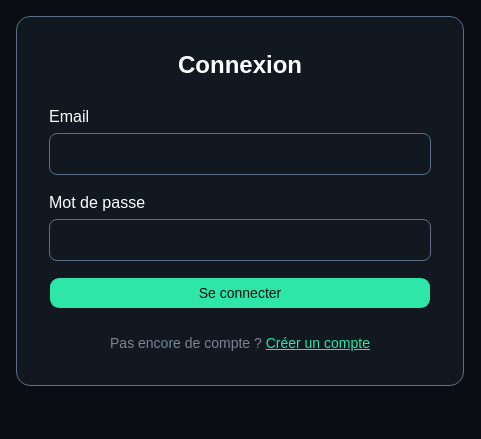
Écran de connexion (SH-20) › refuse un mot de passe trop court sans appeler le backend
In the field labelled "Email": (240, 154) [49,133,431,175], type "pilote@skillhunt.io"
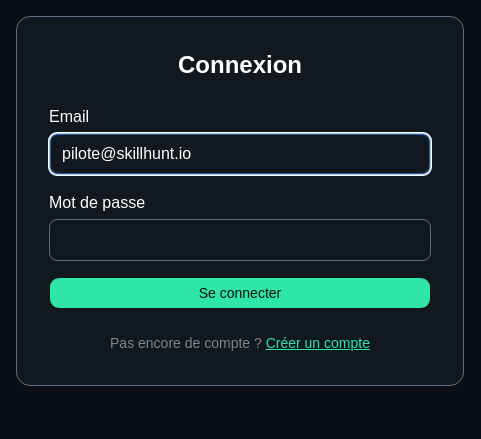
In the password field labelled "Mot de passe": (240, 240) [49,219,431,261], type "court"
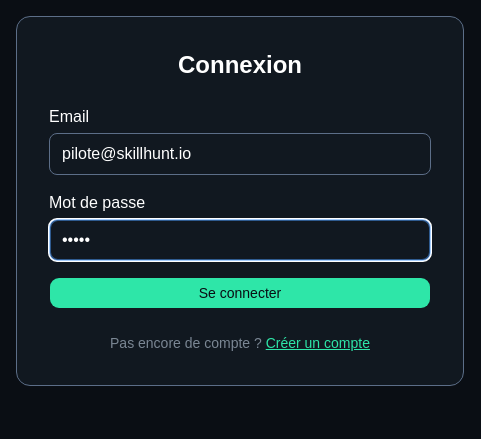
Click the button "Se connecter": click(240, 293) [49,277,431,309]
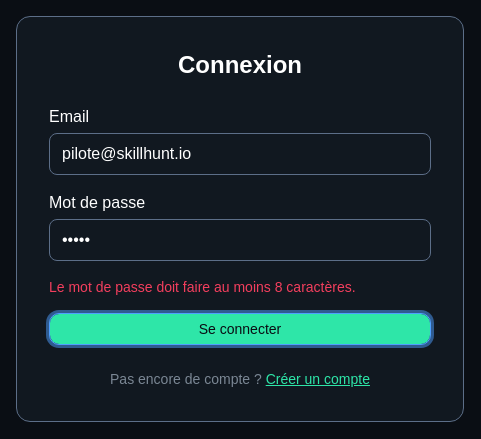
Result: the message shows "au moins 8 caractères" at [49,279,356,295]
